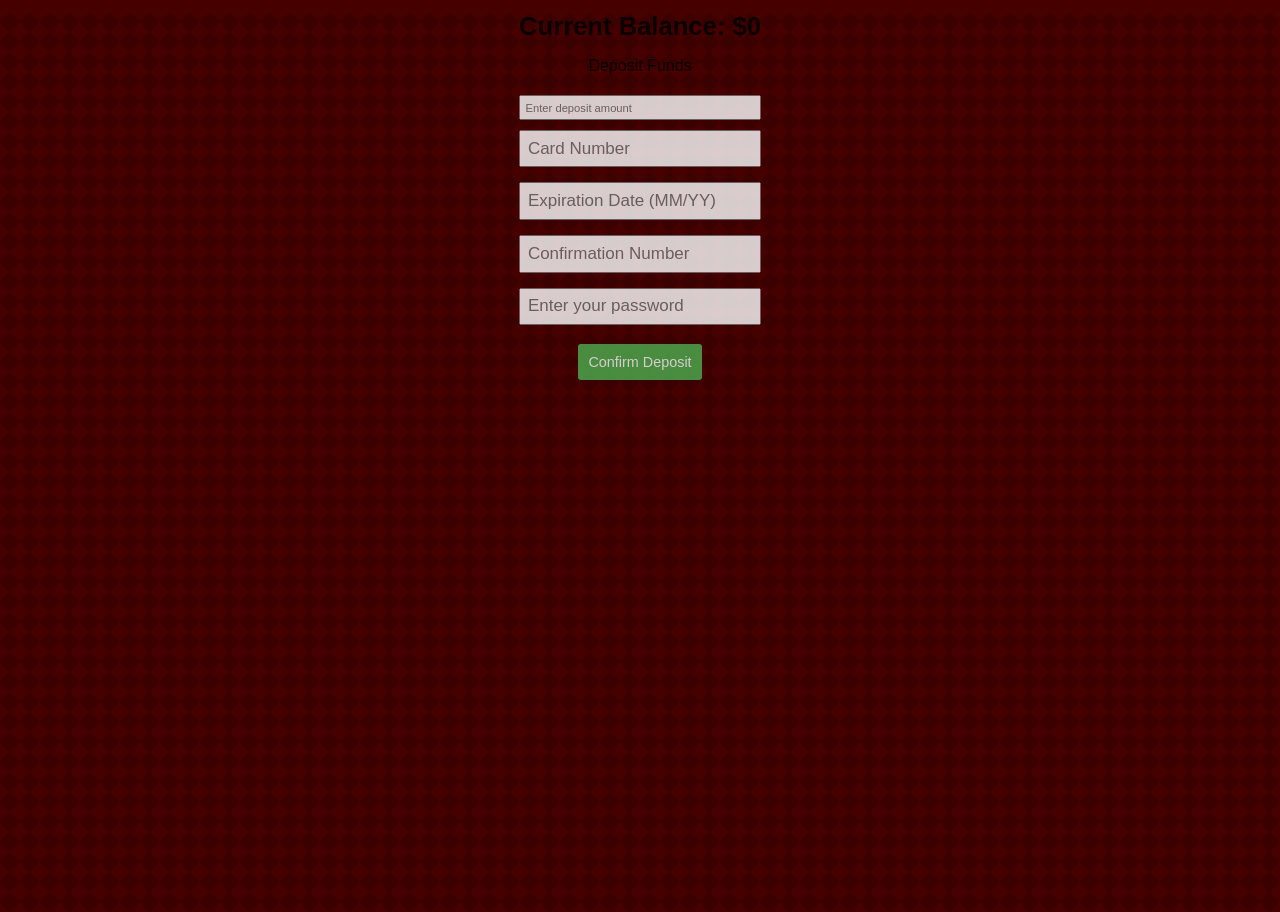
Test: Balance Component › displays an error message if deposit amount is not a positive number
The width and height of the screenshot is (1280, 912).
// Fill in the fields with invalid deposit amount
Type "-100" into the number field with placeholder "Enter deposit amount" at point(640, 108), box [519,96,761,120]
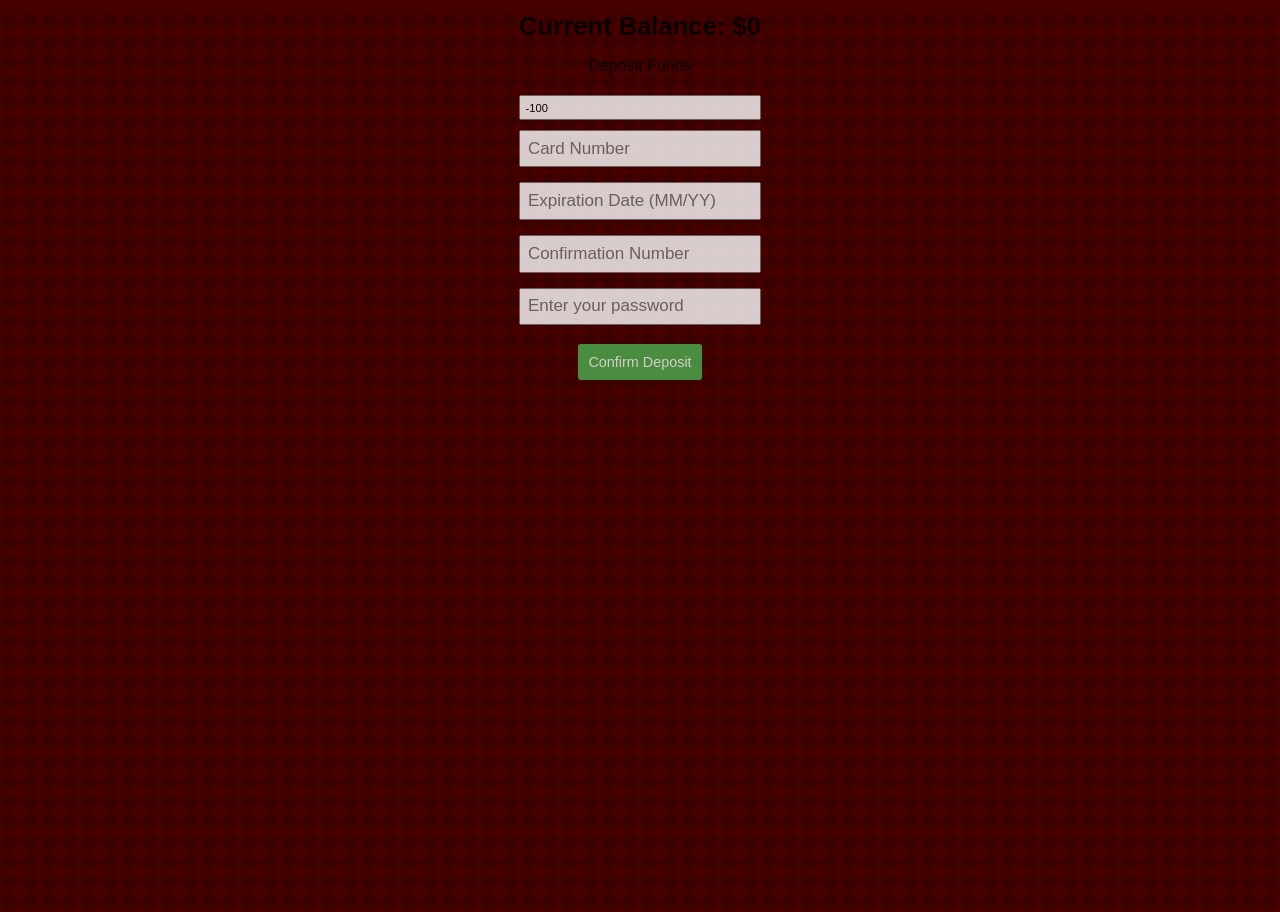
Type "1234567890123456" into the field with placeholder "Card Number" at point(640, 149), box [519,130,761,168]
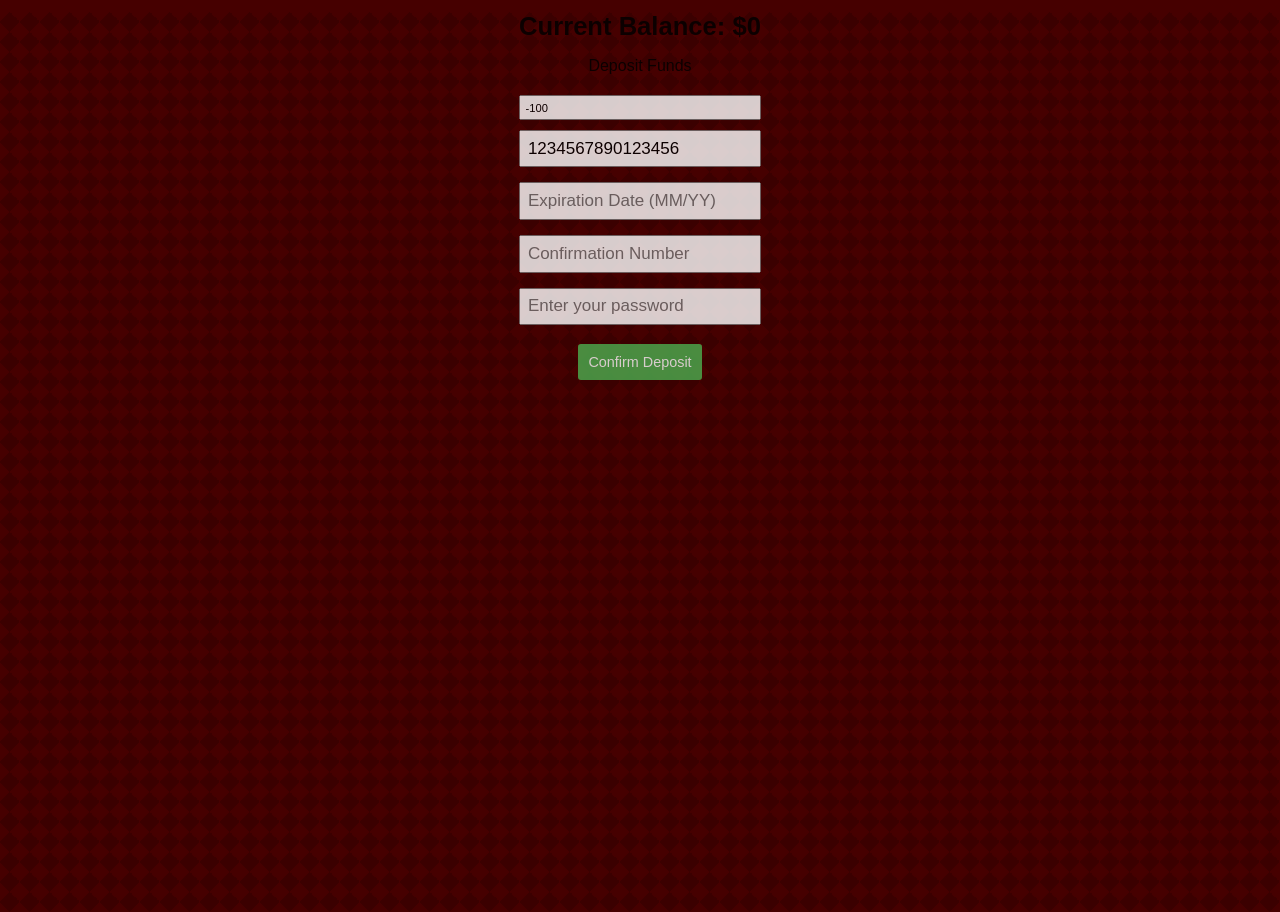
Type "12/34" into the field with placeholder "Expiration Date (MM/YY)" at point(640, 201), box [519,182,761,220]
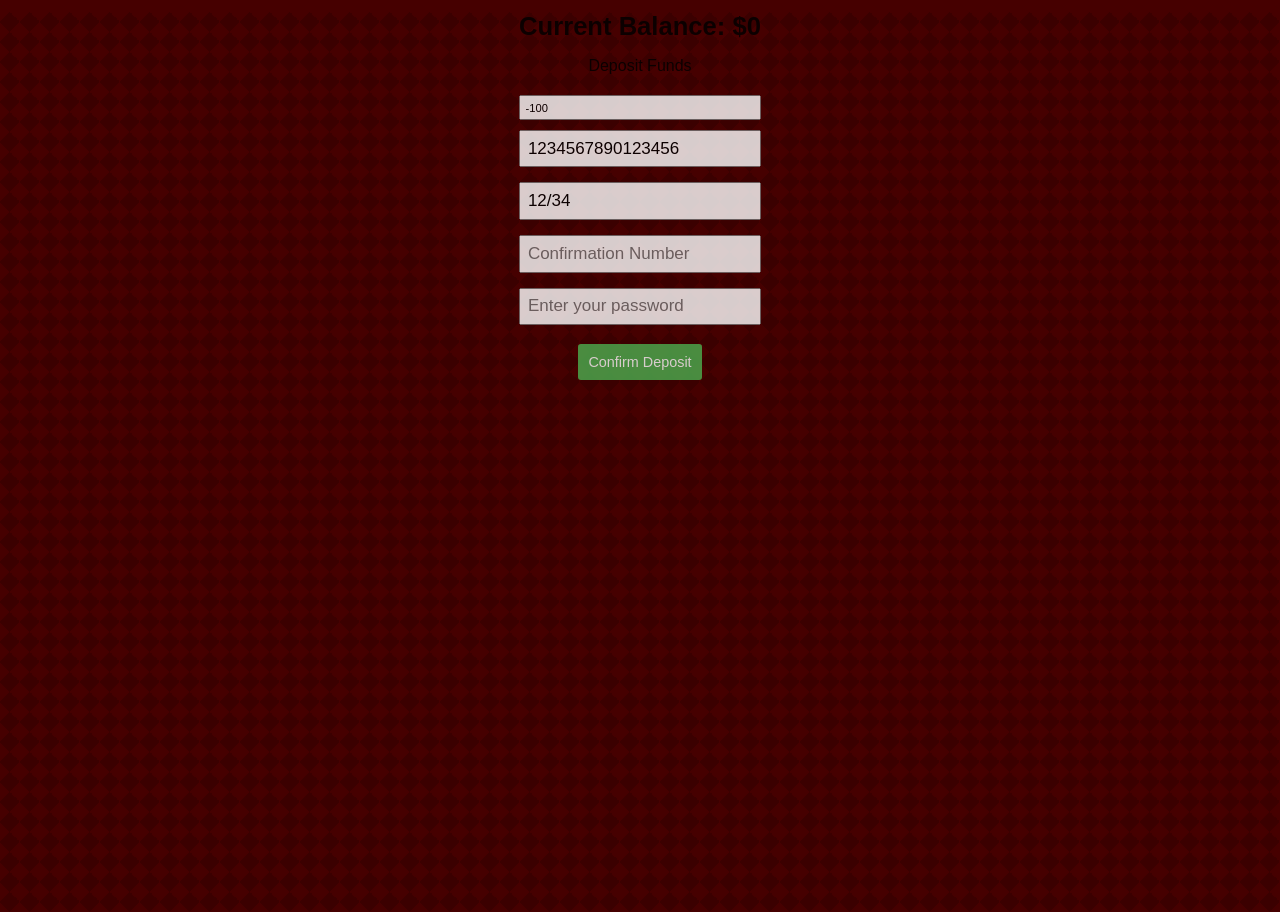
Type "123" into the field with placeholder "Confirmation Number" at point(640, 254), box [519,235,761,273]
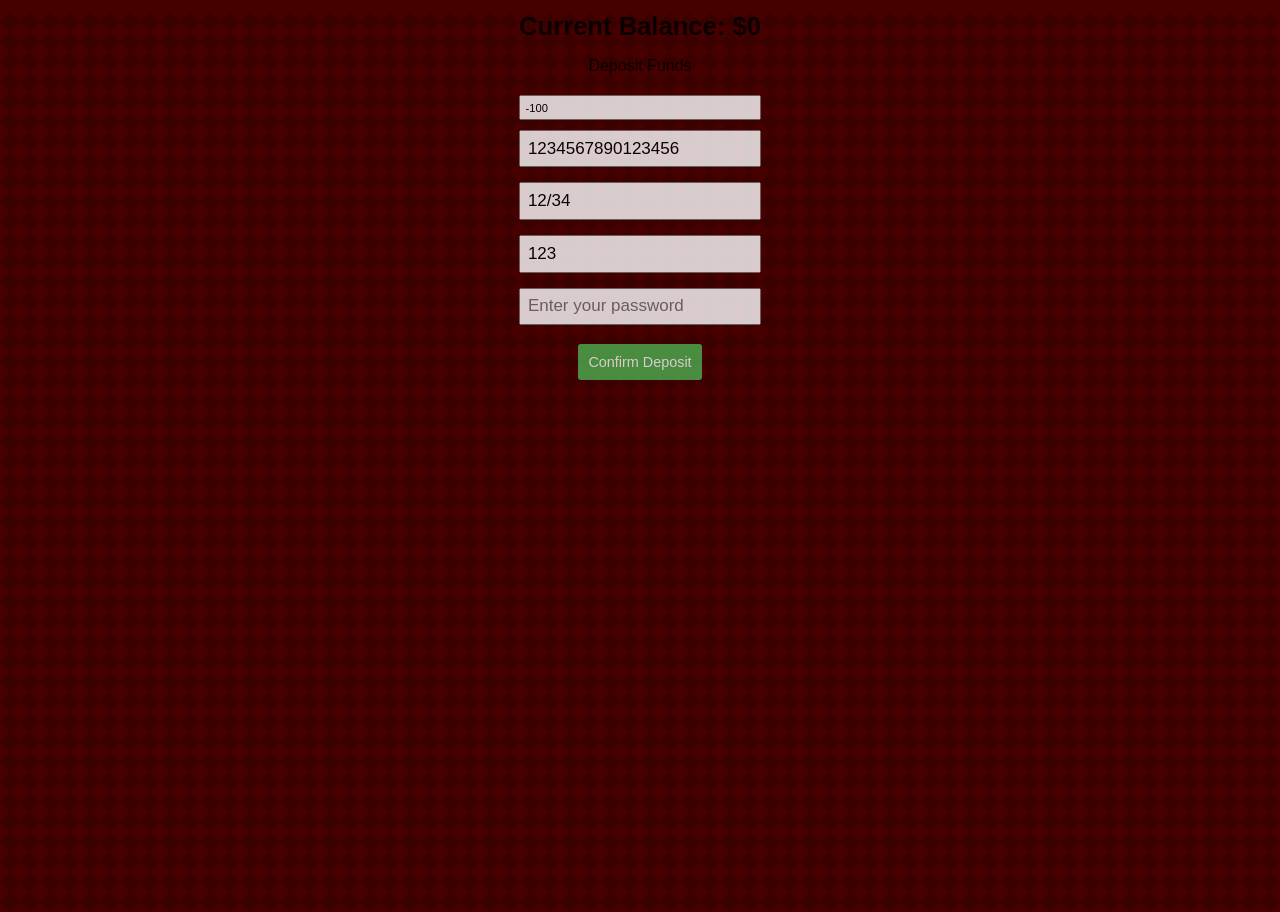
Type "password" into the password field with placeholder "Enter your password" at point(640, 306), box [519,288,761,325]
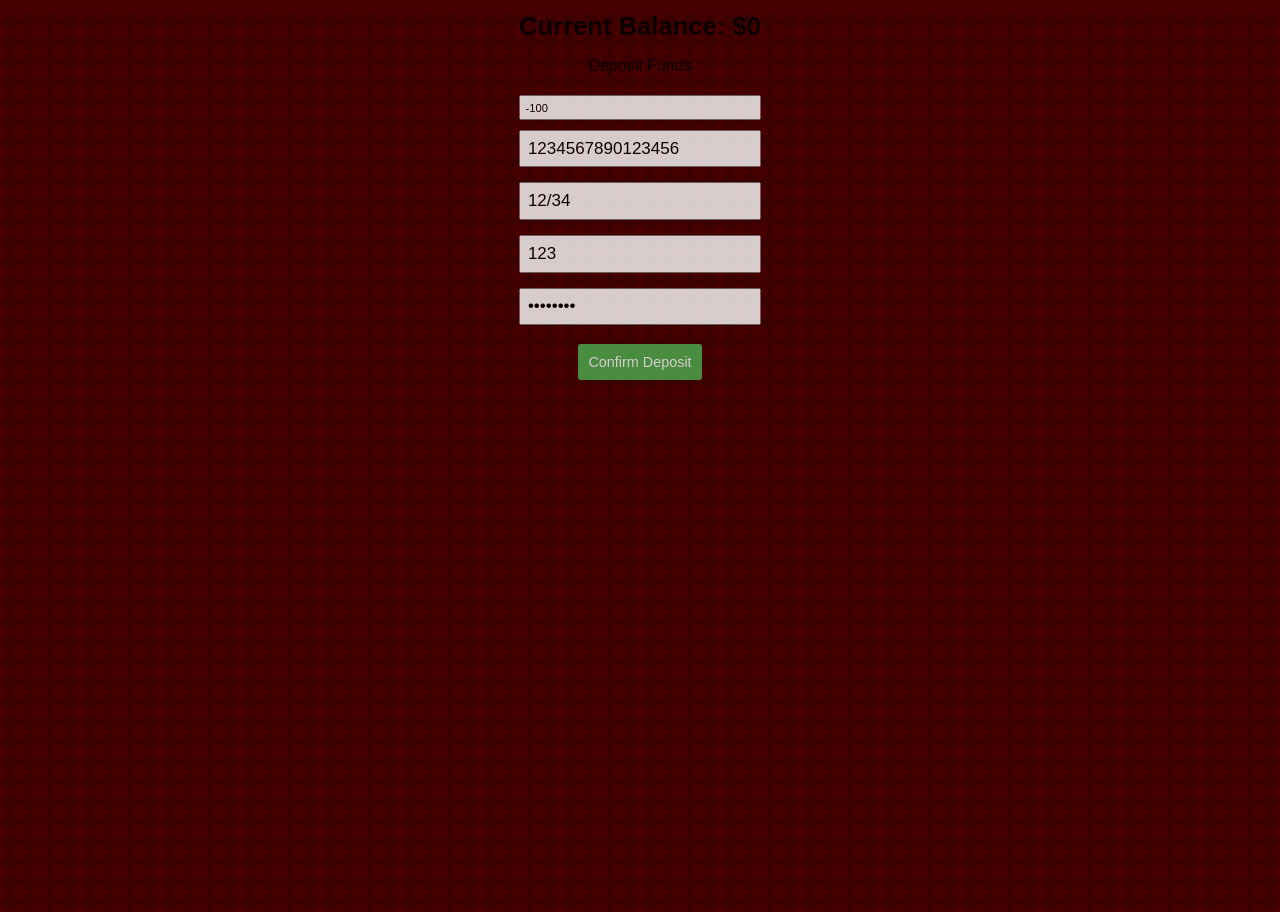
// Click the Confirm Deposit button
Click the button "Confirm Deposit" at point(640, 362), box [578,344,702,380]
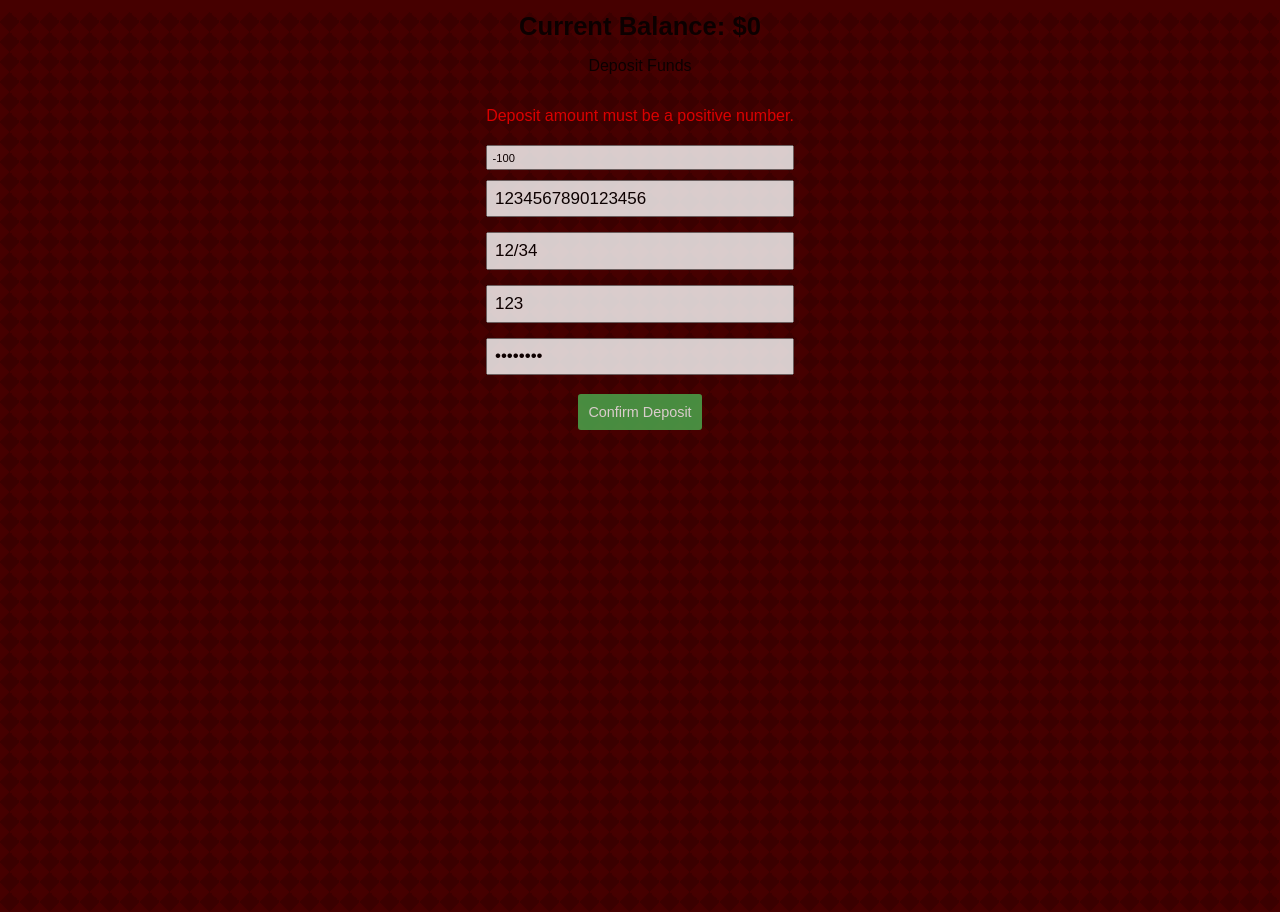
Expected: the text "Deposit amount must be a positive number." is shown, [486,107,794,125]
